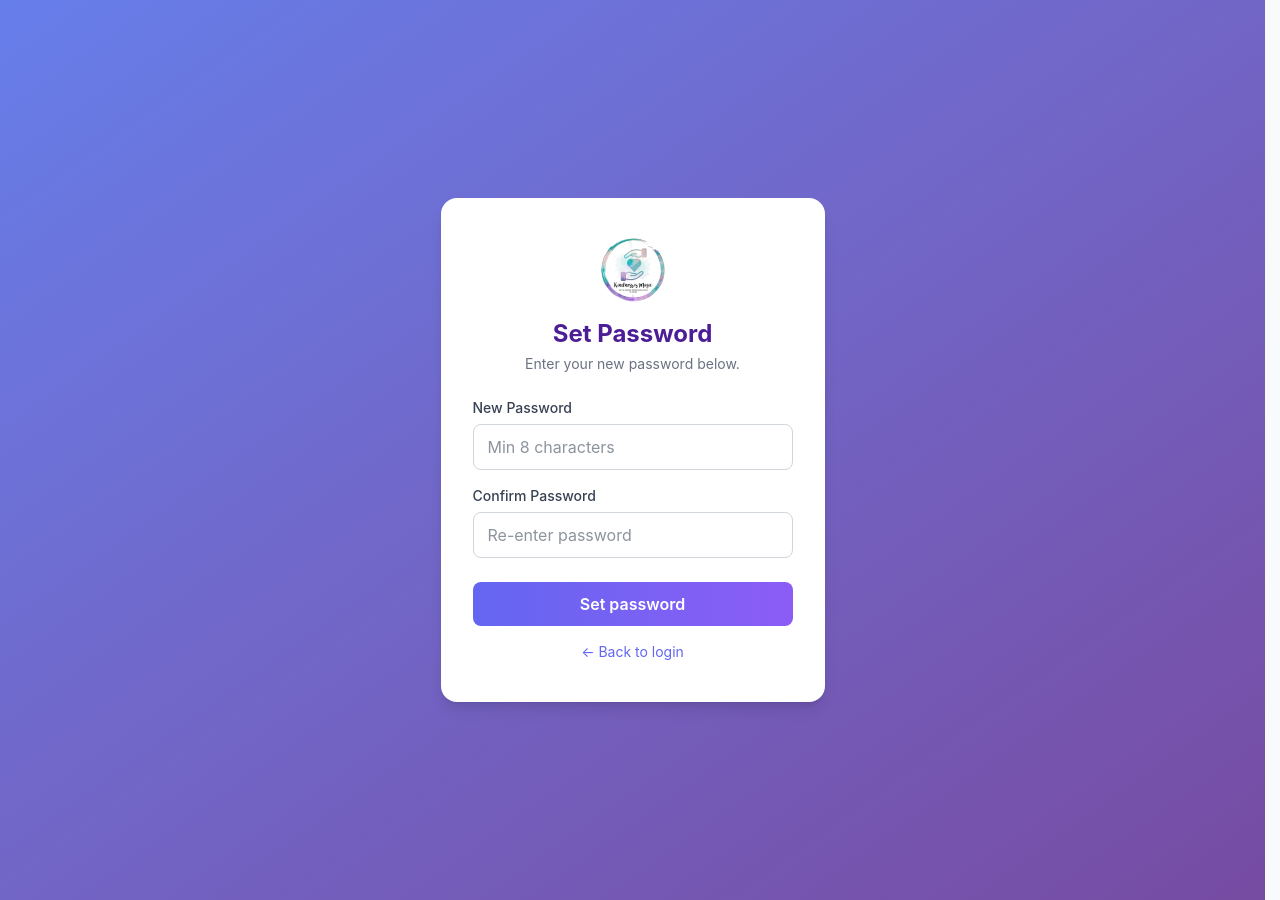
Test case: ResetPassword › shows the success screen and passes the route token
Type "password123" into the password field labelled "New Password" at (632, 447), box [472,424,792,470]
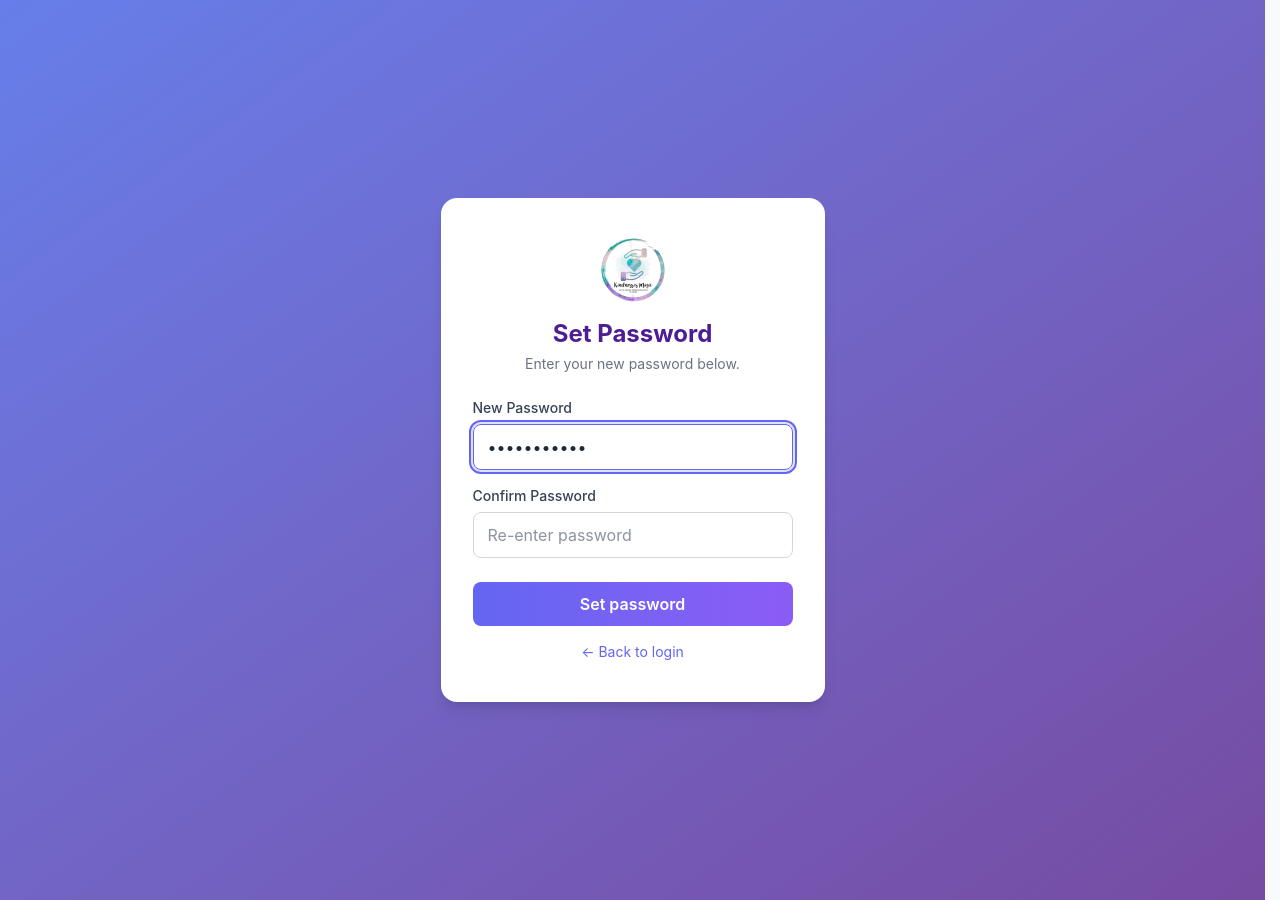
Type "password123" into the password field labelled "Confirm Password" at (632, 535), box [472,512,792,558]
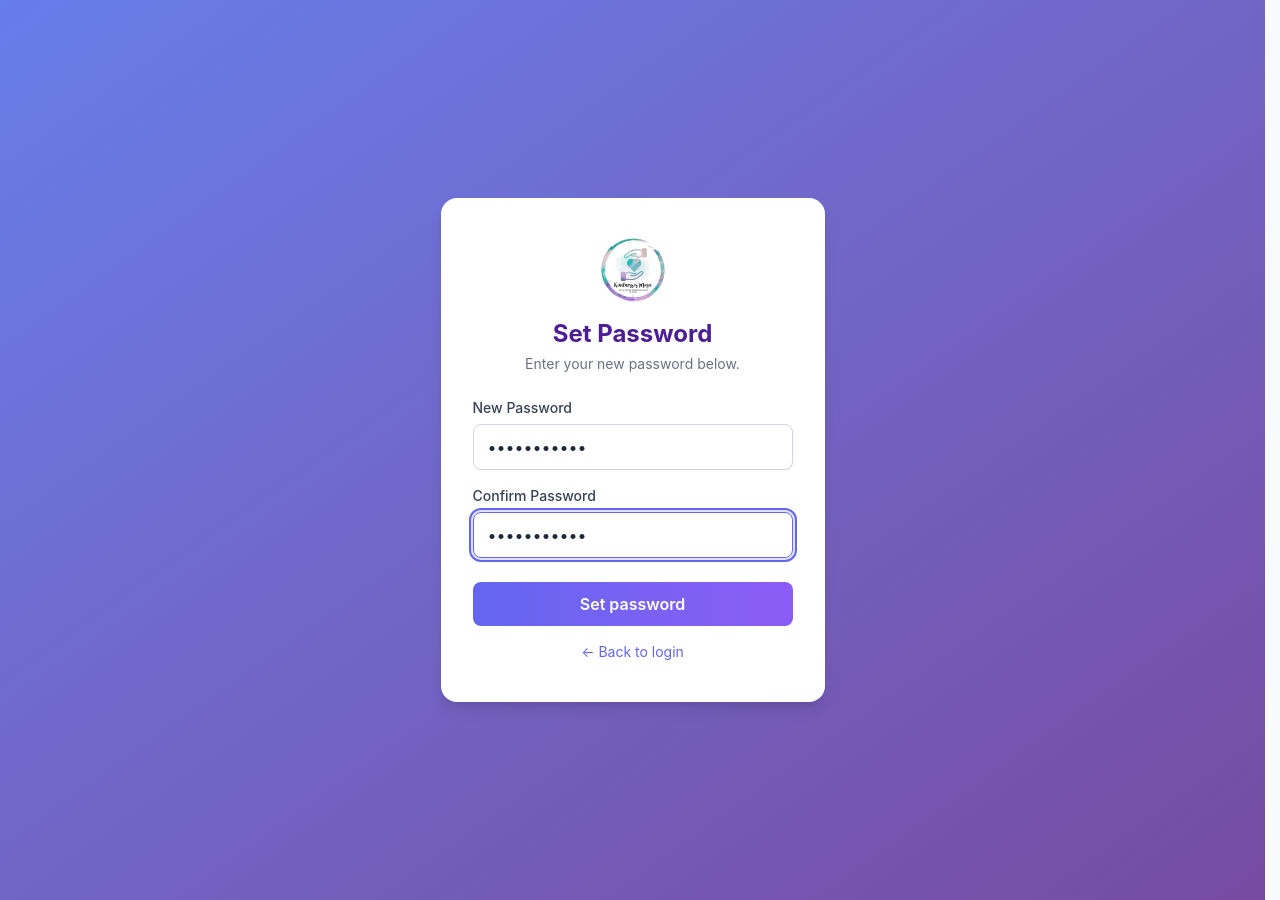
Click the button "Set password" at (632, 604), box [472,582,792,626]
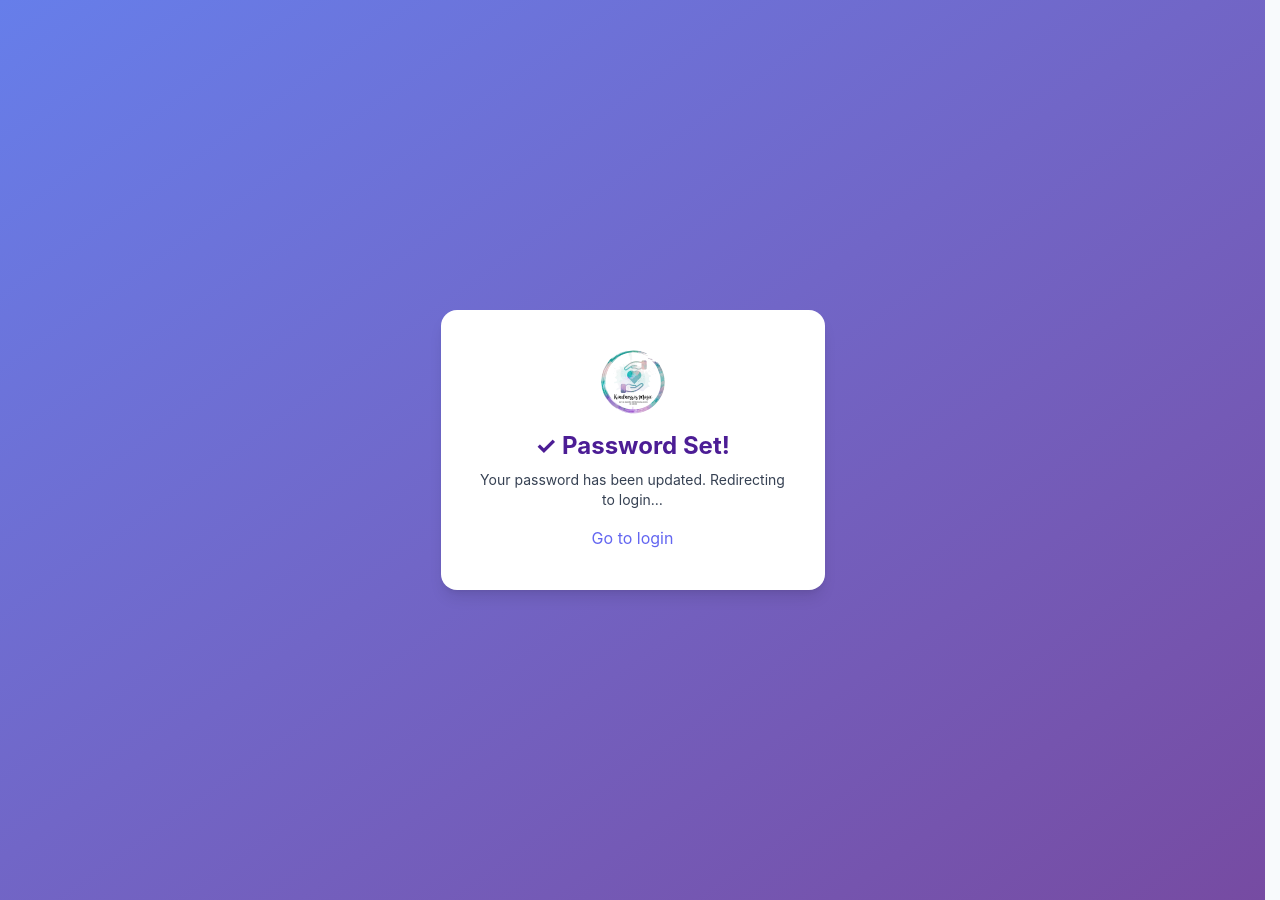
Expected: the heading "✓ Password Set!" is shown, [535,431,730,460]
